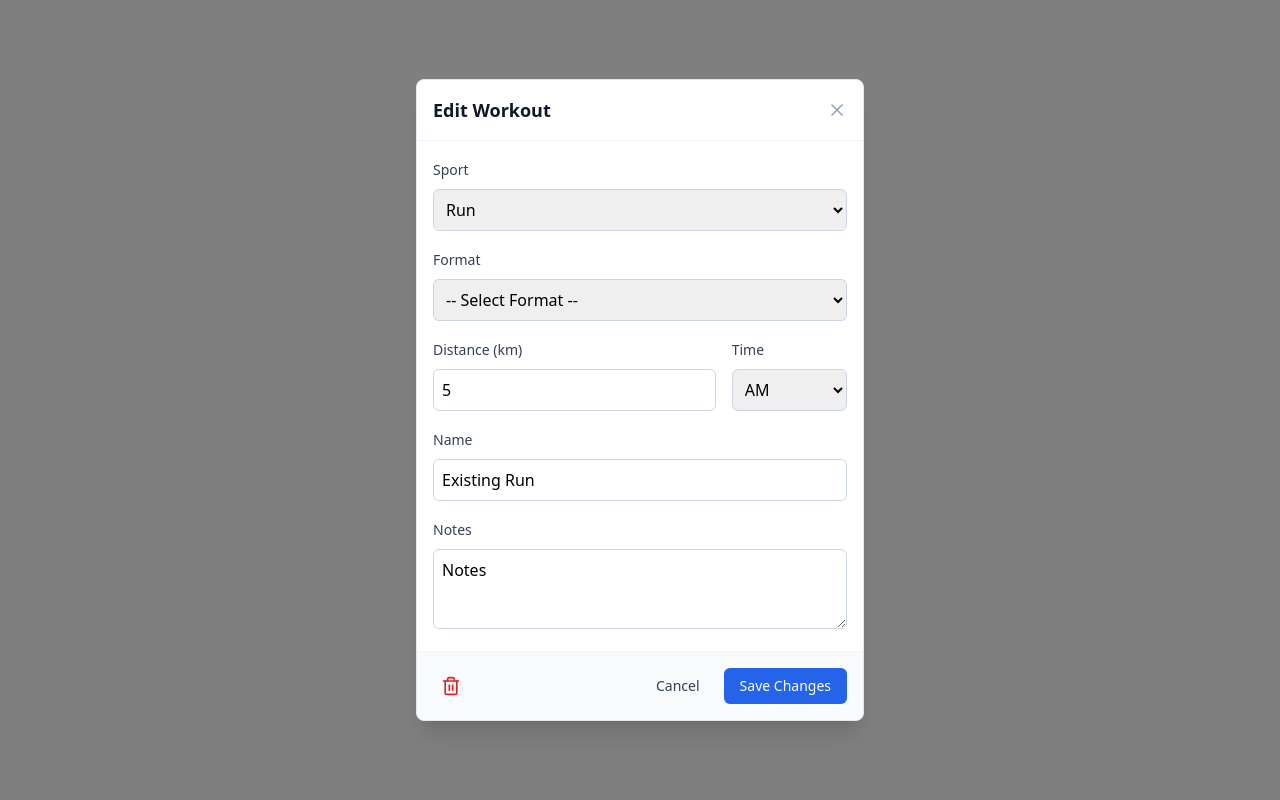
Test: EditWorkoutDialog › opens confirm dialog on delete click
Click the button titled "Delete Workout" at x=451, y=686, box [433,668,469,704]
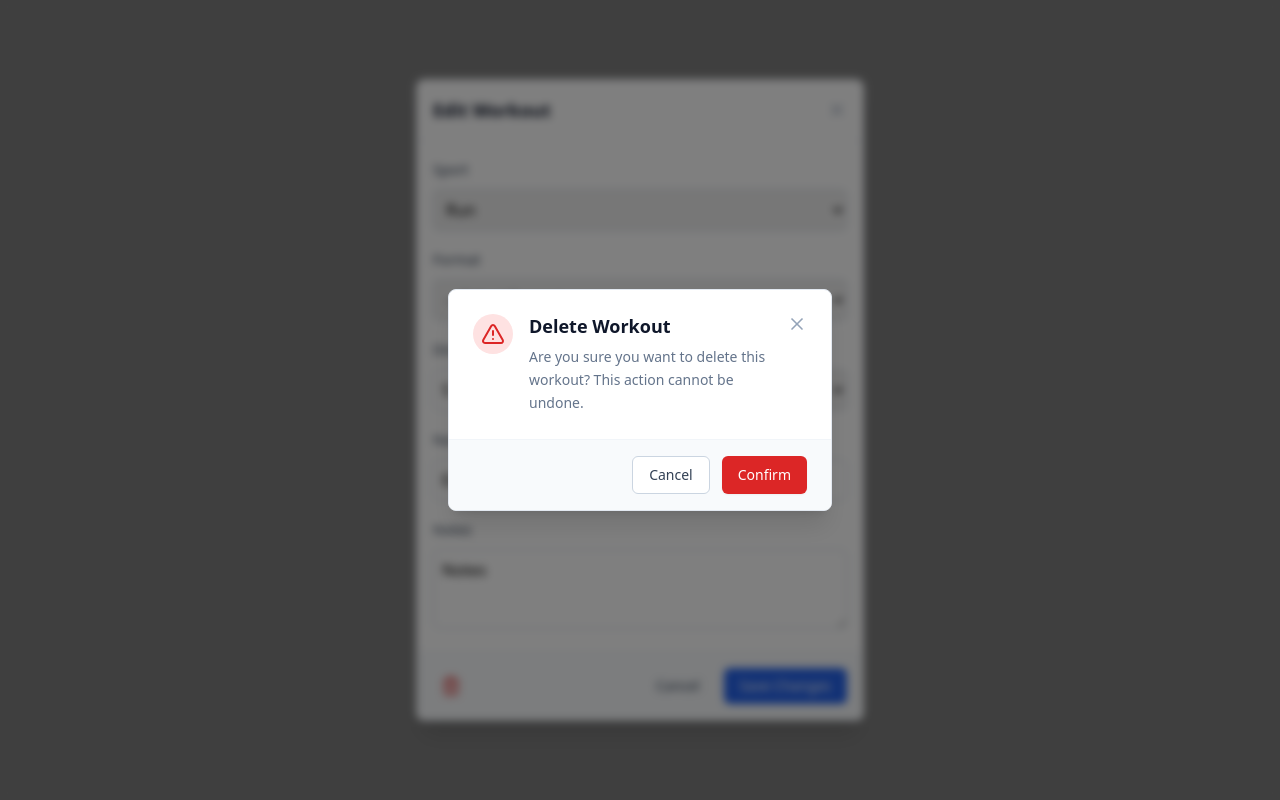
Expected: the heading "Delete Workout" is shown, [529,314,670,338]
Expected: the text "Are you sure" is shown, [529,347,765,412]
